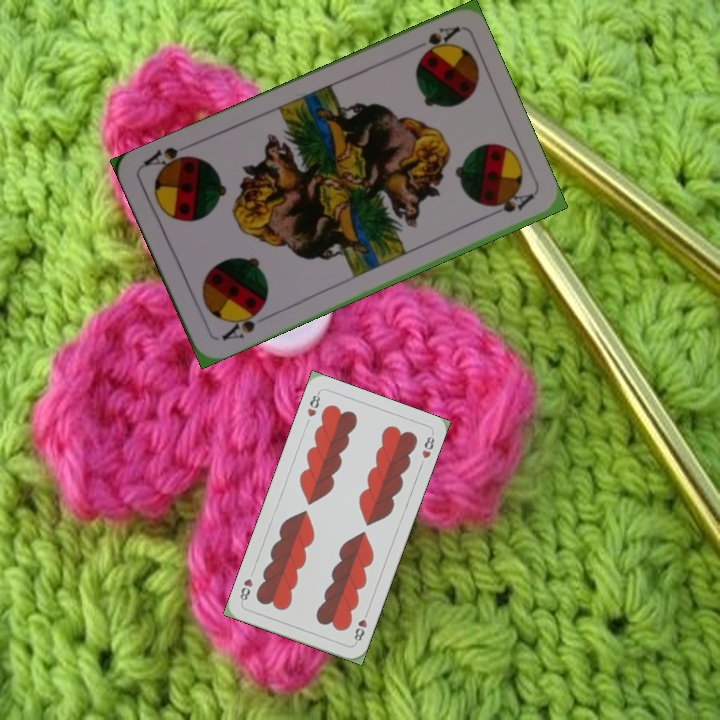H8: (350, 607, 371, 646), (303, 388, 323, 420)
SA: (217, 303, 266, 344), (415, 22, 461, 60)
